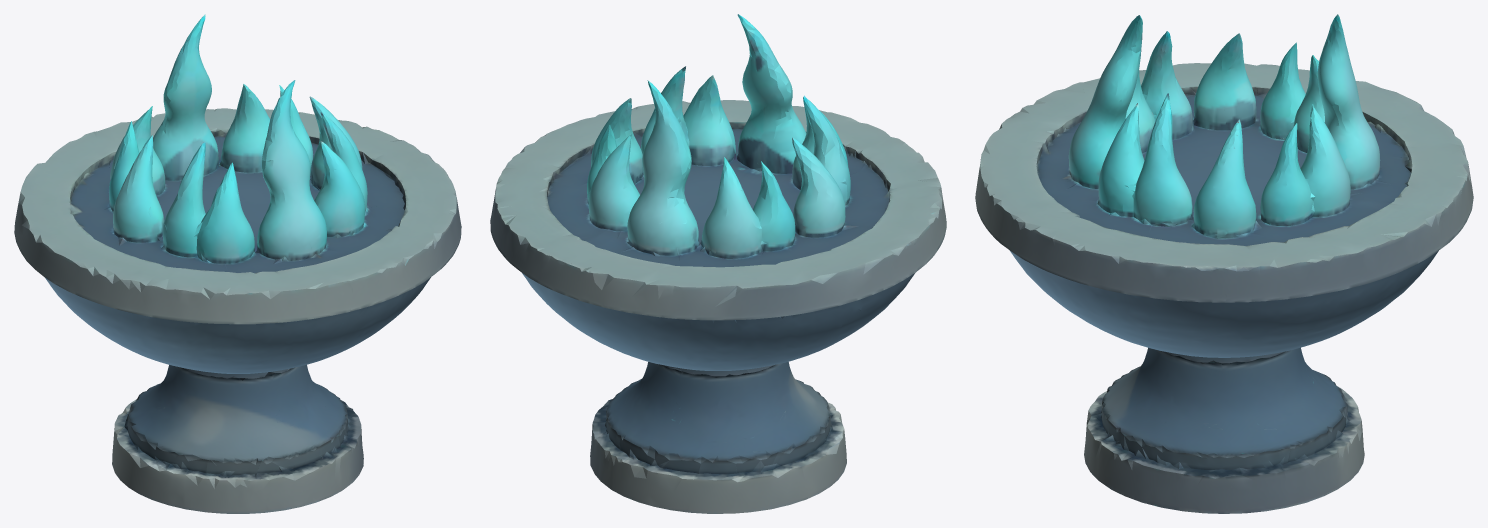
Rendered from Atlantis_Brazier.glb.
3 views of the same model, side by side, from view 1: azimuth 30°, elevation 25°; view 2: azimuth 150°, elevation 25°; view 3: azimuth 270°, elevation 25° (orthographic). The views are drawn at different scales.
Visible parts, largest first — view 1: Atlantis_Brazier; view 2: Atlantis_Brazier; view 3: Atlantis_Brazier.
Boxes of the visible parts, x1=… form: Atlantis_Brazier: x1=14, y1=14, x2=461, y2=513; Atlantis_Brazier: x1=490, y1=14, x2=946, y2=513; Atlantis_Brazier: x1=975, y1=14, x2=1473, y2=513.
Bounding box in the file's own units: 1.15 × 1.15 × 1.15.
1 material, 1 textured.
